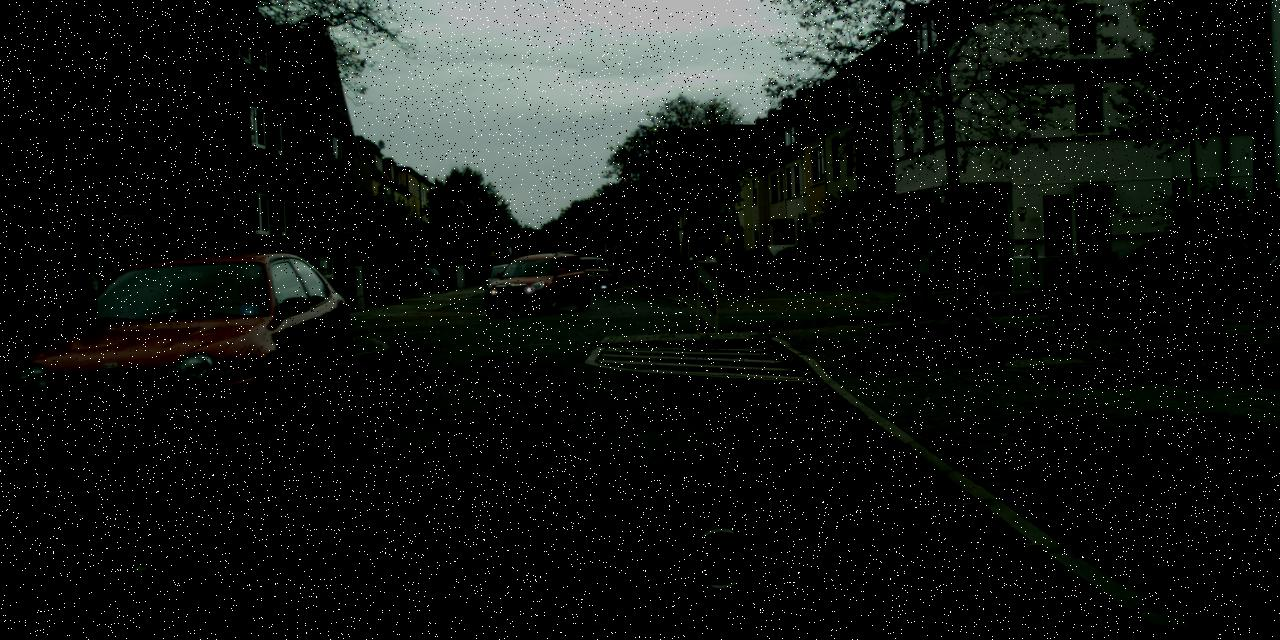ped: (609, 258, 619, 284)
